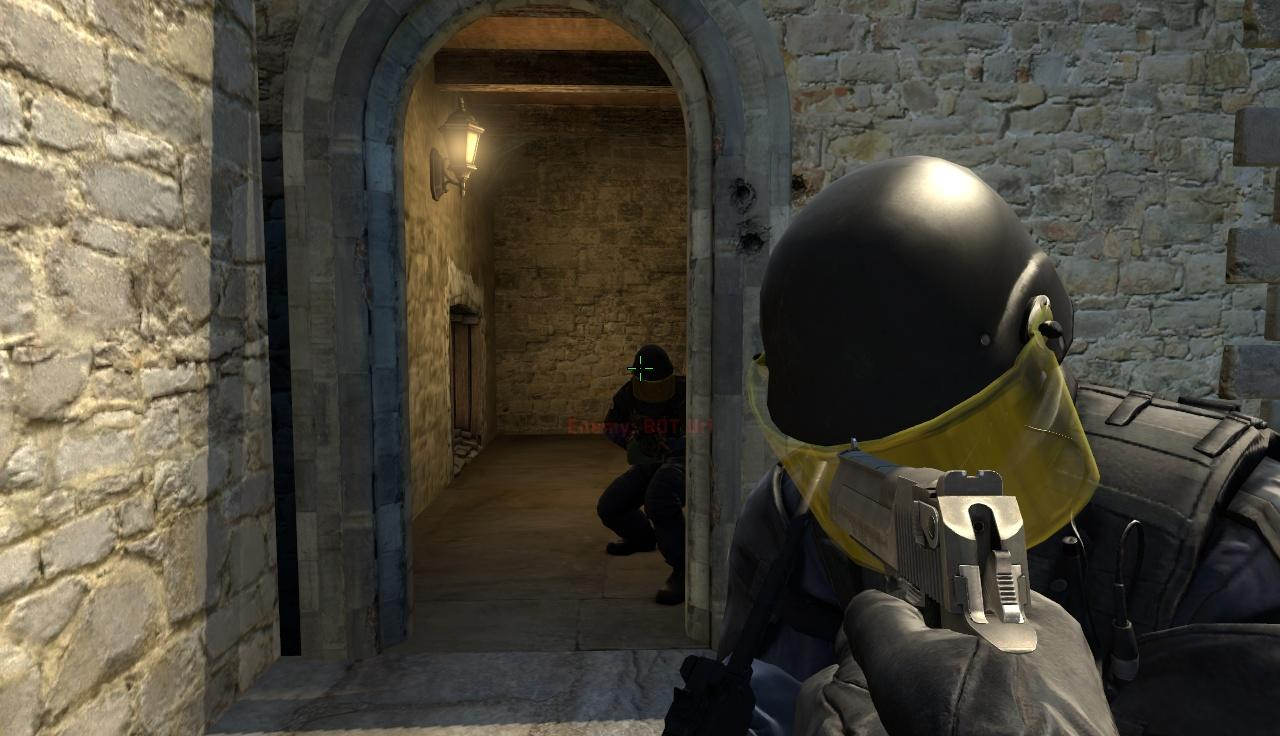ct: (607, 345, 688, 580)
cthead: (756, 158, 1076, 539), (630, 347, 675, 401)
pistol: (829, 440, 1123, 736)
